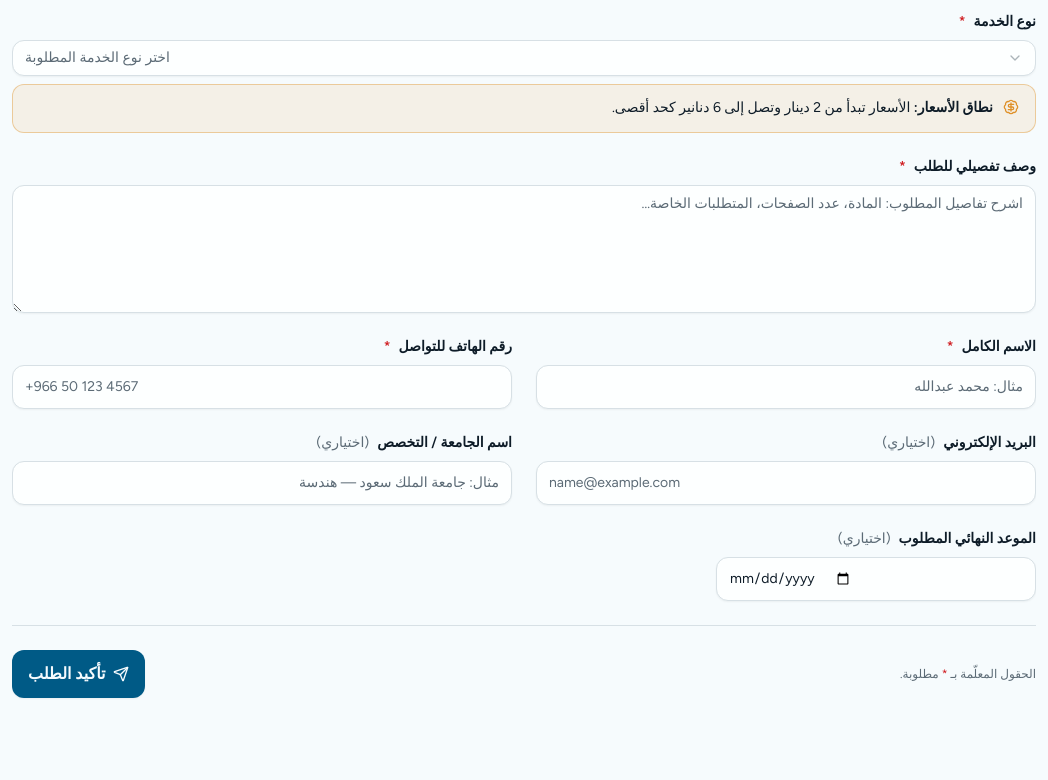
Test case: RequestForm › rejects a malformed phone number
This screenshot has width=1048, height=780.
Step 1. Click the dropdown with test id "request.service_type.select" → (97, 58), box [12, 40, 1036, 76]
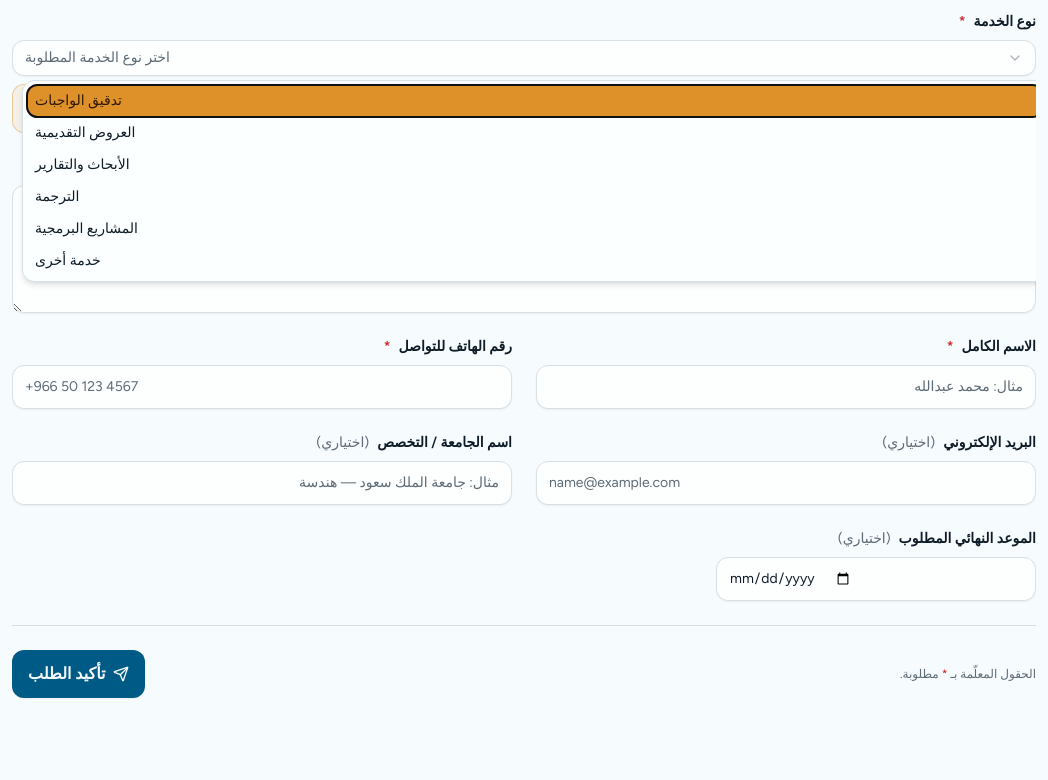
Step 2. Click the option "تدقيق الواجبات" → (78, 100), box [27, 85, 1036, 117]
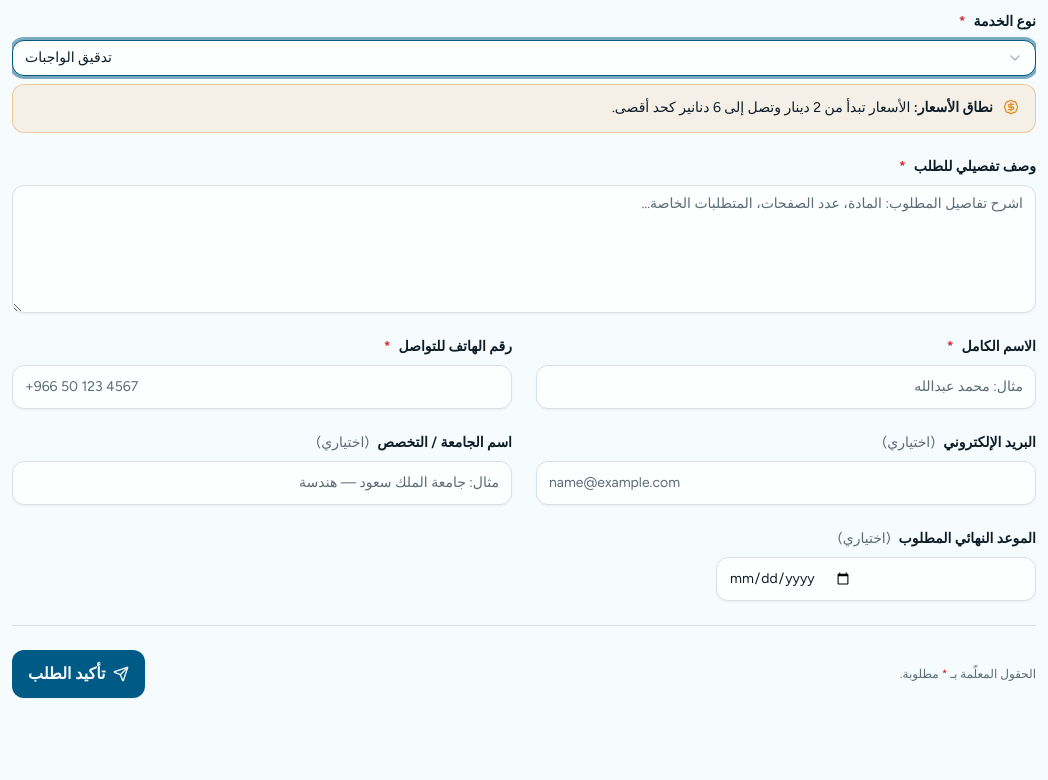
Step 3. Type "حل واجب الرياضيات الفصل الأول" into the text box with test id "request.description.textarea" → (524, 249), box [12, 185, 1036, 313]
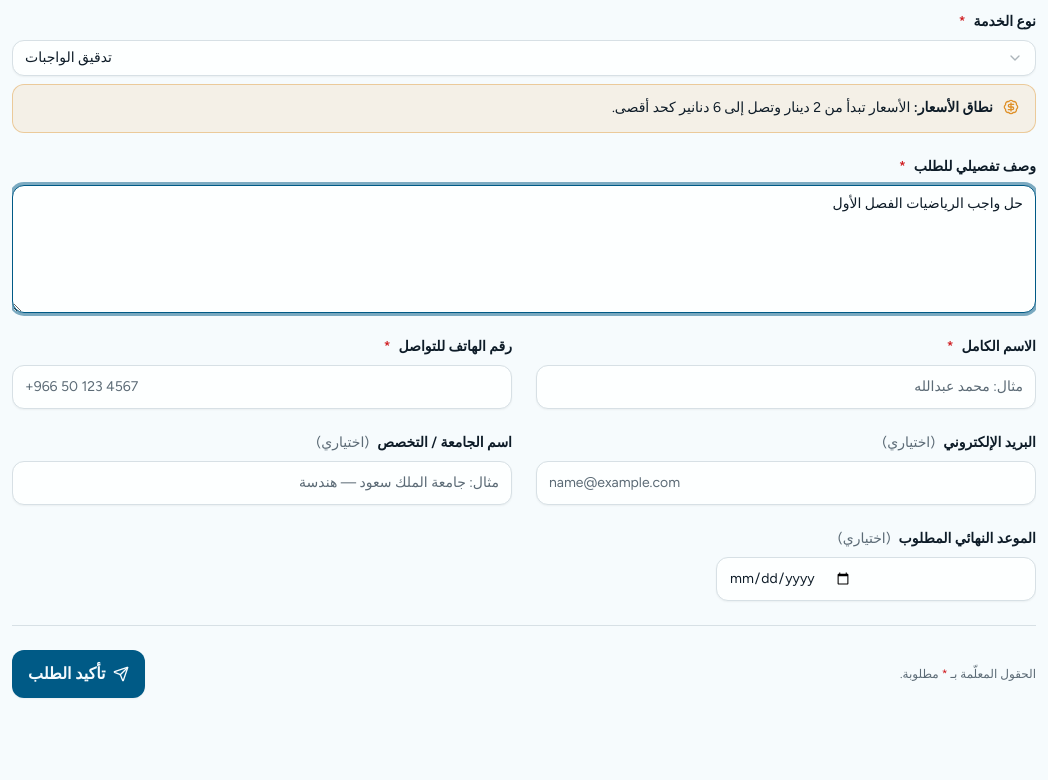
Step 4. Type "محمد عبدالله" into the field with test id "request.full_name.input" → (786, 387), box [536, 365, 1036, 409]
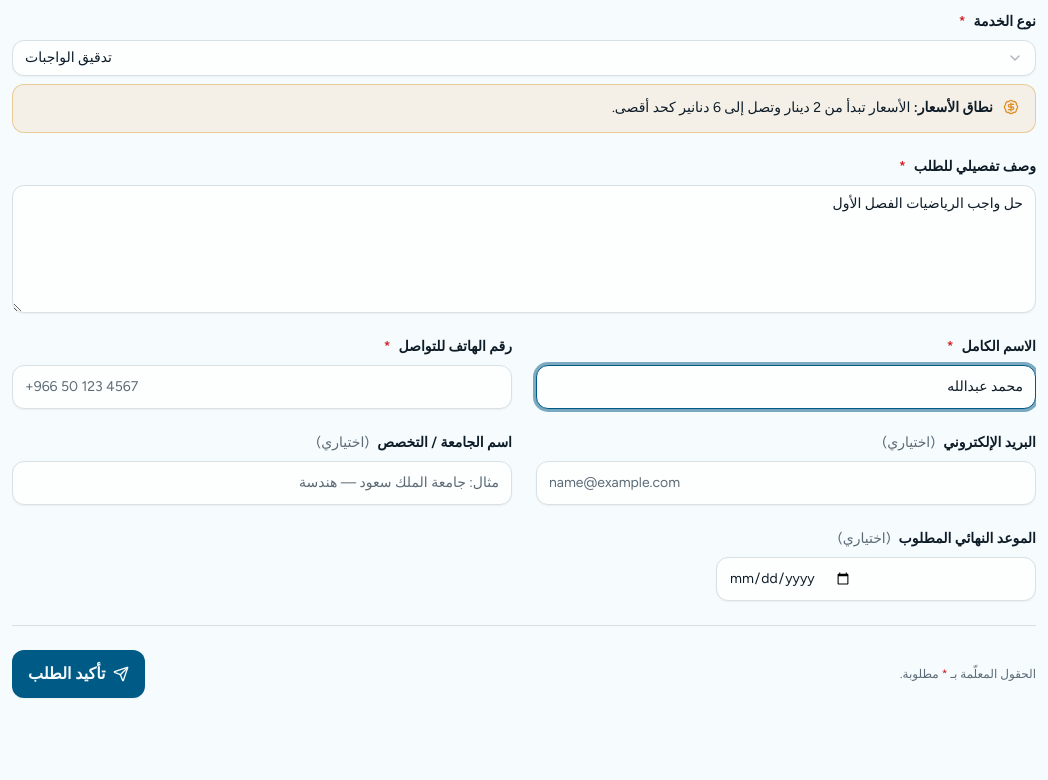
Step 5. Type "abc" into the field with test id "request.phone.input" → (262, 387), box [12, 365, 512, 409]
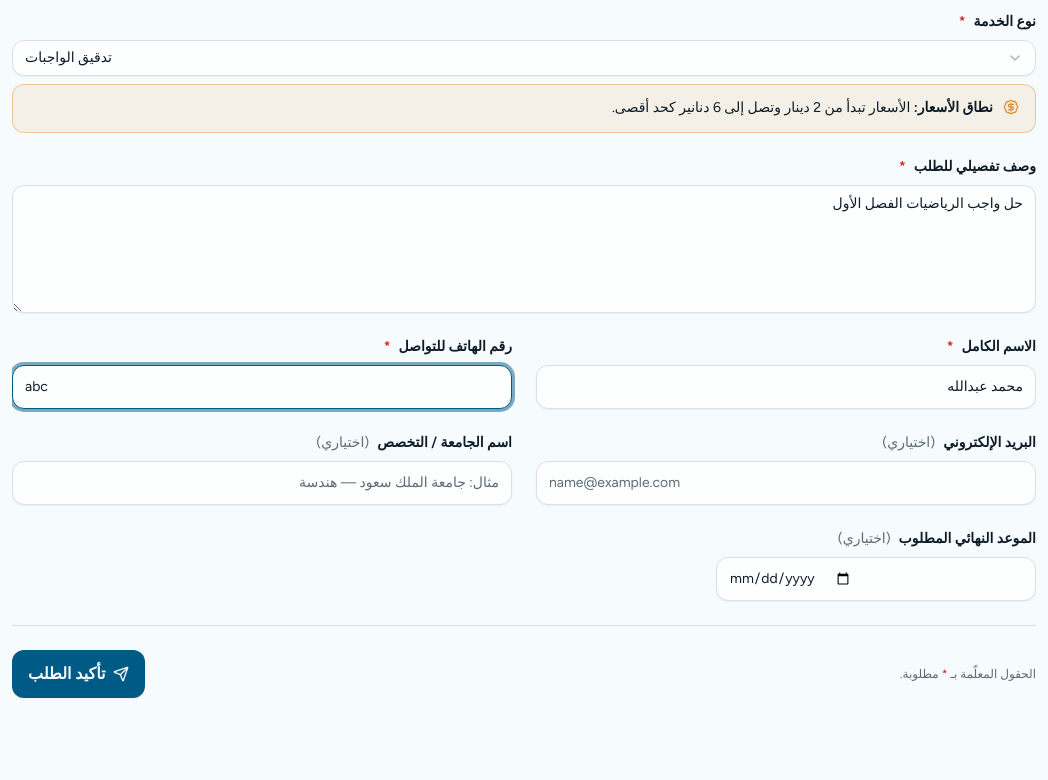
Step 6. Click the button with test id "request.submit_button" → (79, 674), box [12, 650, 146, 698]
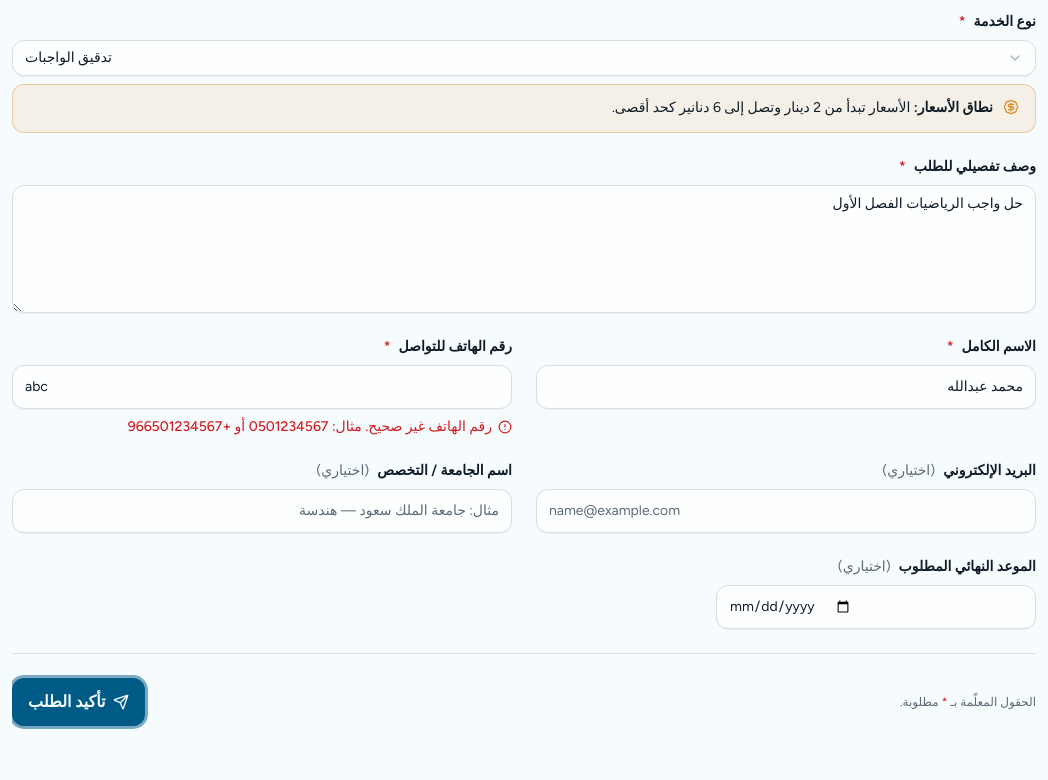
Now the text "رقم الهاتف غير صحيح. مثال: 0501234567 أو +966501234567" is shown, box [128, 418, 512, 435]
